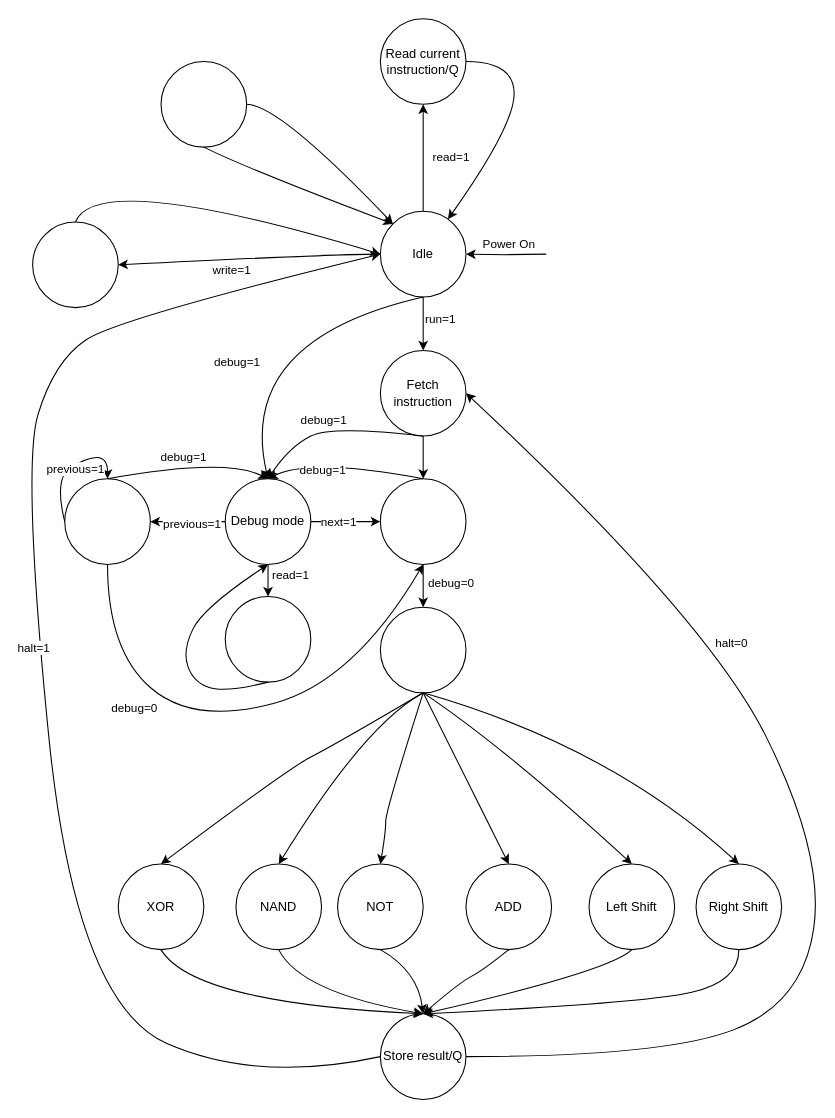
This 835x1118 diagram has some shape labels left out. The centre of each missing label's shape, as x and y in pixels:
"Decode instruction" belongs at [422,649].
"Next instruction" belongs at [422,521].
"Previous instruction" belongs at [107,521].
"Read instruction/Q" belongs at [267,638].
"Store instruction" belongs at [203,103].
"Write instruction" belongs at [75,264].
